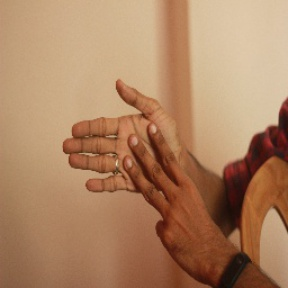M: (59, 77, 194, 210)
